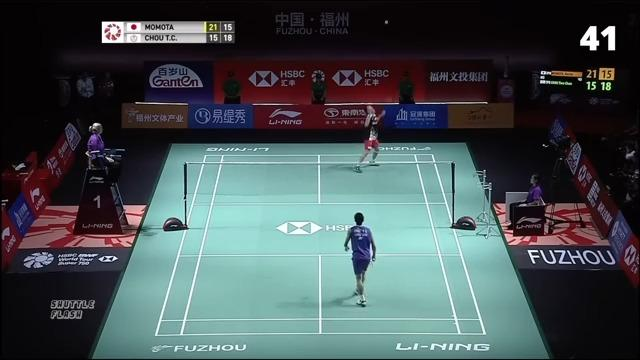Shuttlecock: (382, 17, 393, 26)
